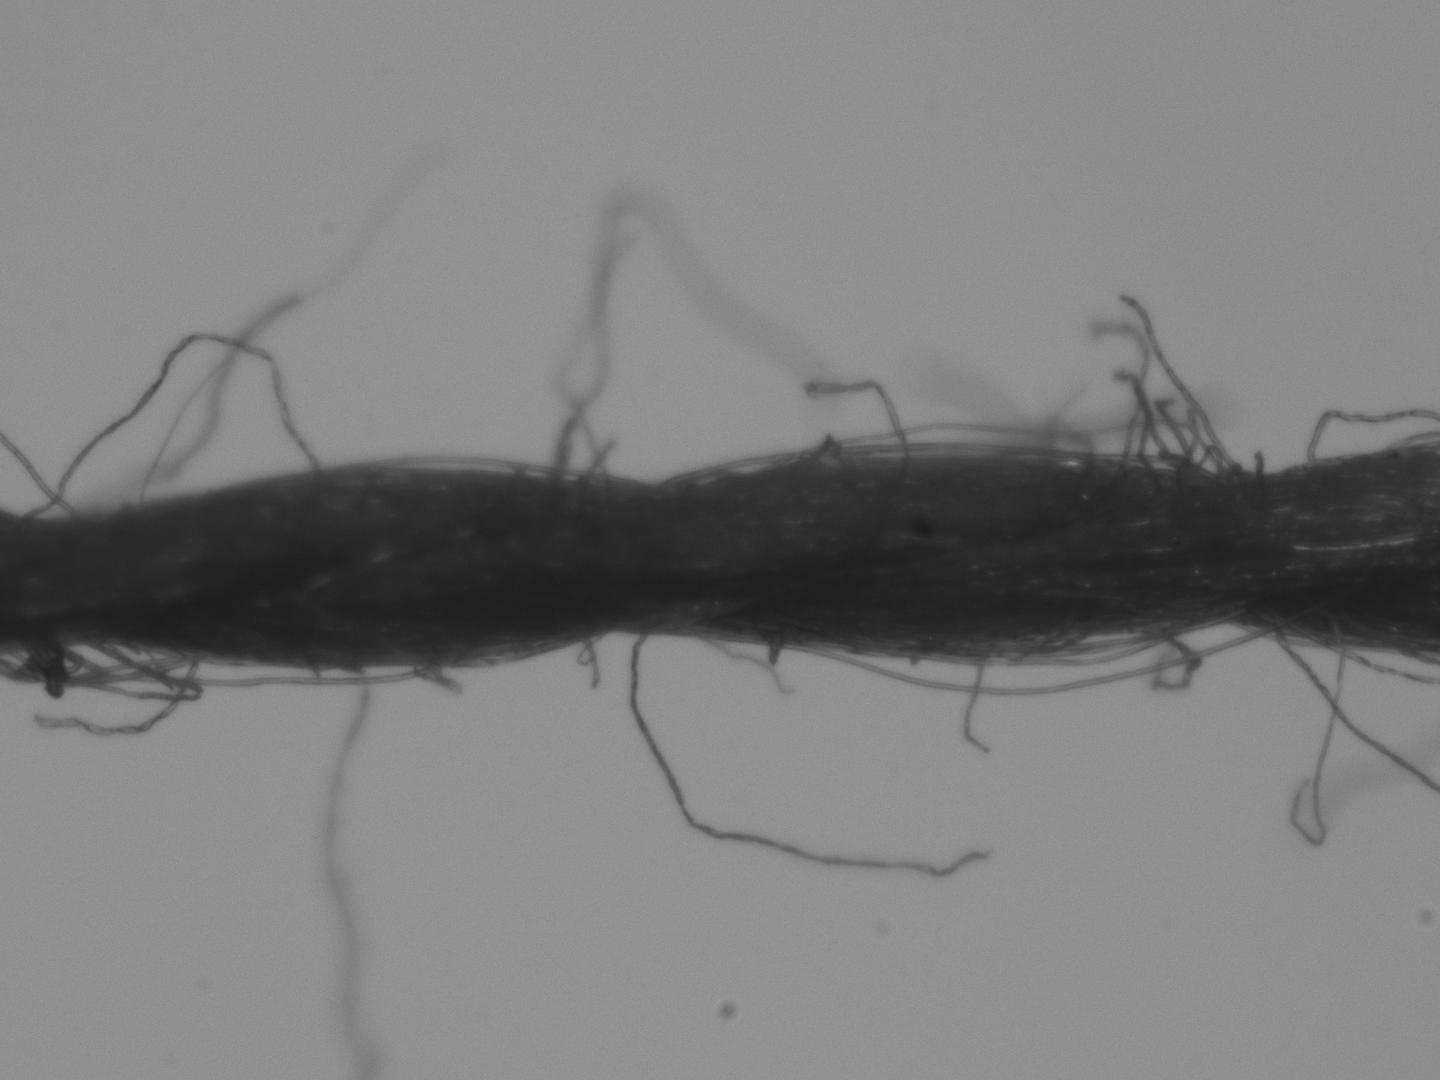loop_fiber: (17, 331, 317, 520), (787, 626, 1270, 698), (831, 417, 1193, 474), (6, 642, 189, 684), (1308, 407, 1435, 463), (375, 455, 581, 481), (657, 454, 803, 489)
protruding_fiber: (630, 630, 1000, 876), (1121, 296, 1233, 469)
